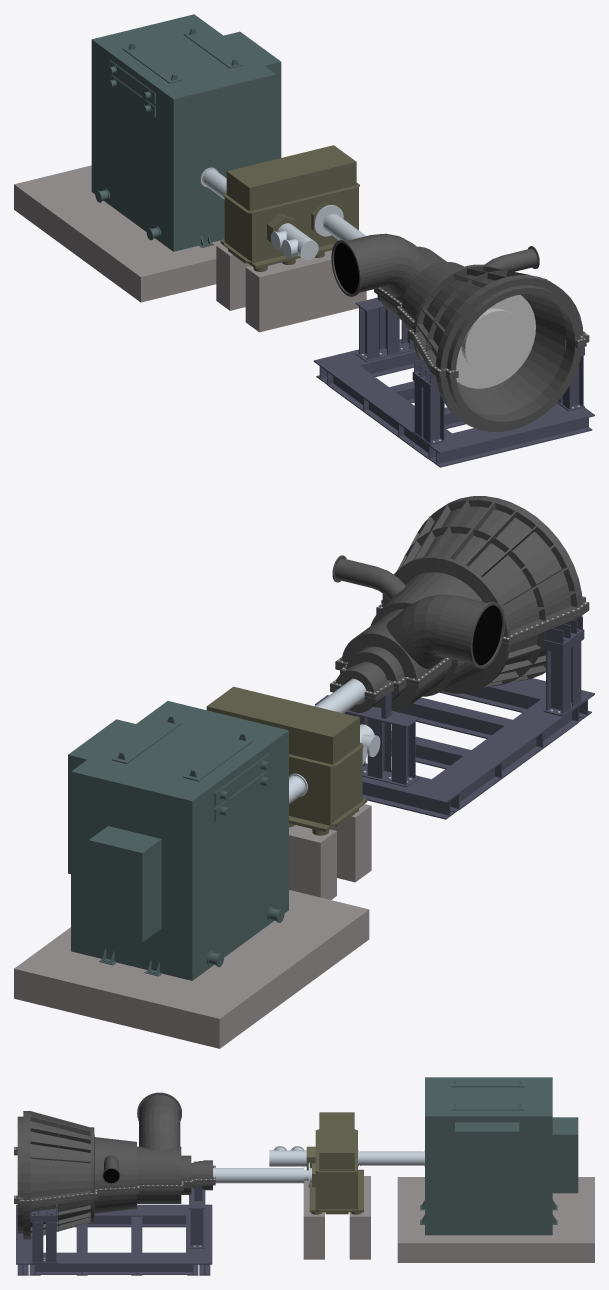
The model's file is TURBINE ASSEMBLY - STEAM TO POWER.fbx.
3 views of the same model, one above another, from view 1: azimuth 30°, elevation 25°; view 2: azimuth 150°, elevation 25°; view 3: azimuth 270°, elevation 25° (orthographic). The views are drawn at different scales.
Parts seen in each view (by area): view 1: Group_15, Group_51, Group_14, Group_46, Group_45, Group_50, Group_53, Group_77, Group_65, Group_44, Group_315, Group_42 (+12 smaller); view 2: Group_15, Group_14, Group_51, Group_46, Group_43, Group_53, Group_77, Group_44, Group_71, Group_45, Group_315, Group_69 (+13 smaller); view 3: Group_15, Group_51, Group_14, Group_42, Group_46, Group_53, Group_77, Group_43, Group_66, Group_49, Group_44, Group_45 (+16 smaller).
Boxes of the visible parts, <box> form: Group_15: <box>91,14,276,251</box>; Group_51: <box>379,246,583,431</box>; Group_14: <box>14,165,223,302</box>; Group_46: <box>220,145,358,268</box>; Group_45: <box>245,250,366,332</box>; Group_50: <box>456,295,535,388</box>; Group_53: <box>313,339,594,453</box>; Group_77: <box>347,233,431,296</box>; Group_65: <box>433,417,592,467</box>; Group_44: <box>216,244,251,310</box>; Group_315: <box>331,240,362,296</box>; Group_42: <box>224,31,281,158</box>; Group_15: <box>71,701,288,980</box>; Group_14: <box>14,890,369,1048</box>; Group_51: <box>335,496,582,712</box>; Group_46: <box>206,686,367,832</box>; Group_43: <box>88,826,161,942</box>; Group_53: <box>362,678,594,803</box>; Group_77: <box>386,594,486,668</box>; Group_44: <box>289,825,336,899</box>; Group_71: <box>399,697,546,749</box>; Group_45: <box>330,804,371,882</box>; Group_315: <box>468,601,504,668</box>; Group_69: <box>459,712,578,809</box>; Group_15: <box>425,1077,552,1235</box>; Group_51: <box>17,1111,212,1239</box>; Group_14: <box>397,1177,594,1262</box>; Group_42: <box>455,1122,519,1209</box>; Group_46: <box>309,1112,363,1214</box>; Group_53: <box>16,1204,212,1264</box>; Group_77: <box>139,1095,180,1151</box>; Group_43: <box>552,1117,578,1193</box>; Group_66: <box>35,1264,192,1274</box>; Group_49: <box>213,1162,311,1188</box>; Group_44: <box>349,1176,370,1259</box>; Group_45: <box>303,1181,324,1259</box>.
Bounding box in the file's own units: 103 × 86.86 × 319.
